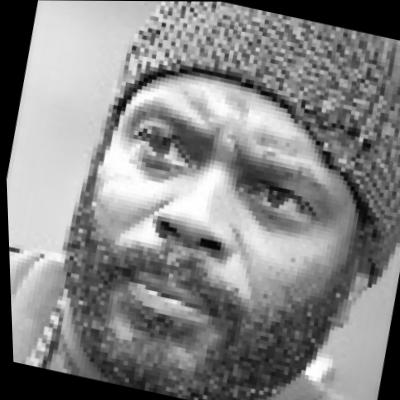angry: (48, 48, 382, 400)
